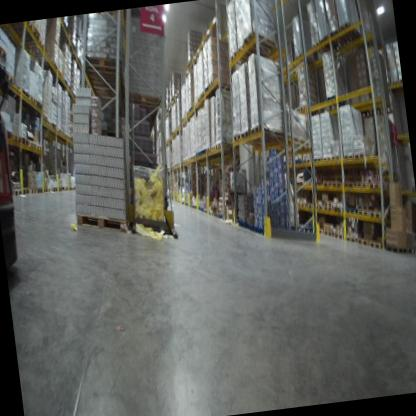pallet: (74, 203, 133, 240), (80, 43, 126, 80), (121, 88, 163, 115), (242, 27, 276, 60), (236, 38, 276, 65), (248, 119, 283, 144), (229, 44, 254, 69), (310, 36, 337, 59), (338, 17, 361, 43), (284, 131, 310, 153), (324, 91, 351, 111), (319, 31, 340, 55), (17, 25, 42, 45), (329, 26, 351, 47), (22, 38, 46, 54), (385, 240, 406, 257), (3, 183, 22, 201), (367, 176, 384, 191), (10, 21, 33, 32), (214, 138, 235, 150), (0, 57, 9, 82), (353, 149, 373, 160), (6, 69, 17, 88), (239, 127, 253, 141), (367, 239, 383, 251), (27, 92, 37, 110), (330, 230, 345, 242), (5, 127, 16, 143), (28, 135, 38, 152), (21, 131, 31, 148), (232, 131, 245, 144), (27, 182, 39, 196), (368, 209, 382, 220), (353, 178, 368, 188), (390, 79, 402, 91), (0, 42, 8, 59), (321, 178, 333, 189), (345, 233, 357, 244), (322, 227, 333, 238), (312, 155, 324, 165), (342, 179, 354, 189), (323, 199, 335, 209), (357, 236, 369, 246), (20, 89, 29, 102), (20, 183, 29, 196), (341, 151, 354, 160), (331, 205, 345, 213), (12, 133, 23, 143), (323, 204, 334, 214), (36, 141, 44, 154), (345, 207, 358, 215), (315, 226, 325, 236), (40, 115, 49, 126), (321, 154, 332, 163), (332, 178, 343, 187), (314, 202, 325, 211), (294, 200, 305, 209), (403, 248, 415, 256), (37, 96, 43, 111), (306, 201, 316, 210), (357, 210, 368, 218), (356, 204, 368, 211), (331, 153, 341, 161), (292, 157, 303, 164), (302, 156, 311, 164), (42, 186, 49, 196), (36, 187, 43, 195)
pallet_truck: (0, 54, 35, 286)
